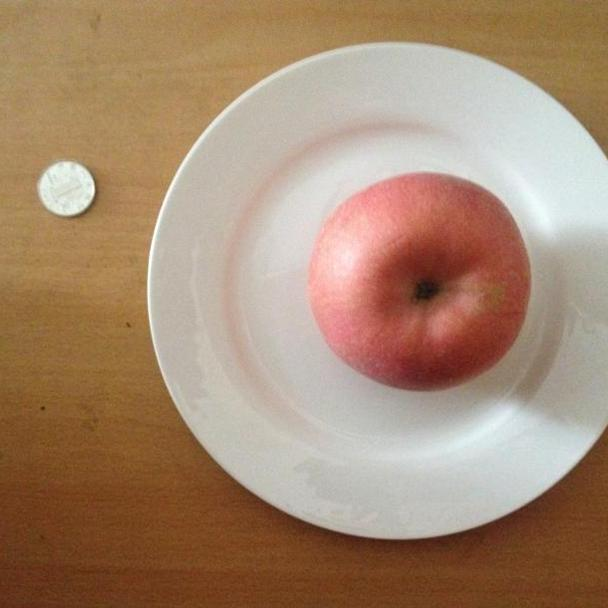apple: (306, 170, 536, 395)
